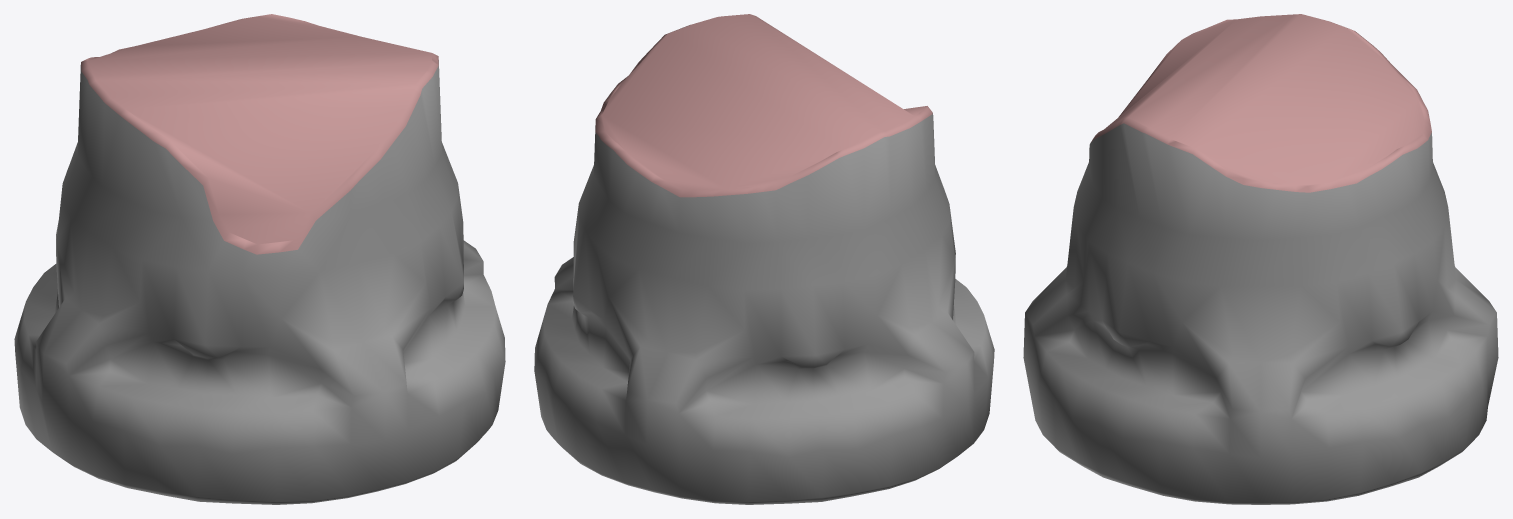
File: RuineBroken2.FBX
The picture shows the model from 3 angles, left to right: view 1: azimuth 30°, elevation 25°; view 2: azimuth 150°, elevation 25°; view 3: azimuth 270°, elevation 25°; orthographic projection. The views are drawn at different scales.
Parts seen in each view (by area): view 1: Ruine2; view 2: Ruine2; view 3: Ruine2.
Part boxes in pixels (<box>): Ruine2: <box>14,14,505,504</box>; Ruine2: <box>534,14,994,504</box>; Ruine2: <box>1023,14,1498,504</box>.
Bounding box in the file's own units: 150 × 117 × 150.
